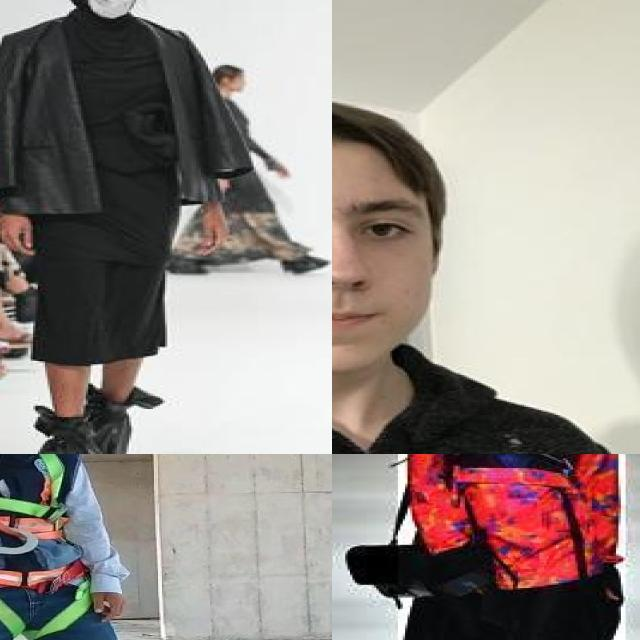No_Glasses: (332, 190, 431, 262)
face_mask: (83, 0, 138, 18)
face_nomask: (332, 184, 430, 373), (232, 75, 246, 92)
hand_noglove: (84, 574, 131, 630), (188, 212, 231, 256), (0, 212, 38, 253)
head_nohelmet: (332, 103, 435, 176)
person: (0, 0, 260, 454), (332, 77, 640, 454), (398, 454, 628, 640), (0, 454, 182, 640)
